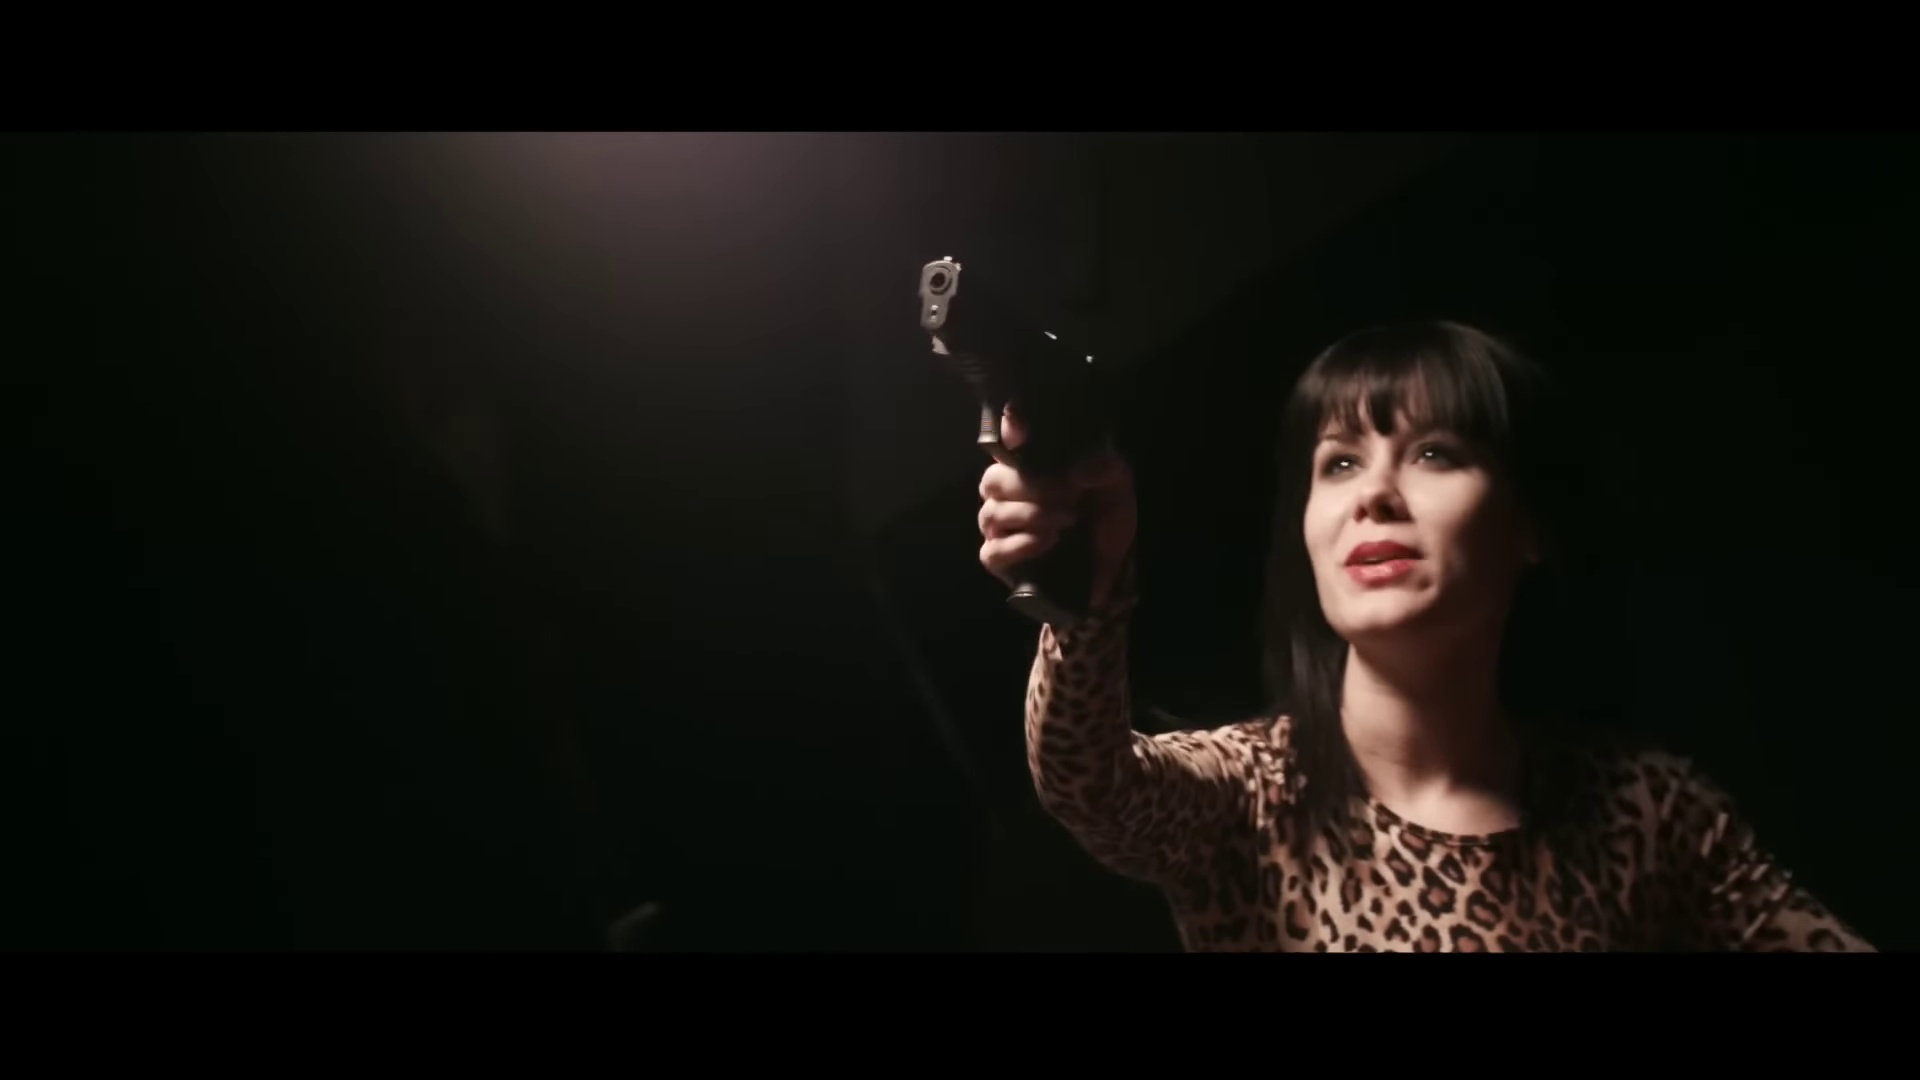gun: (905, 247, 1120, 620)
p_w_gun: (897, 239, 1871, 955)
